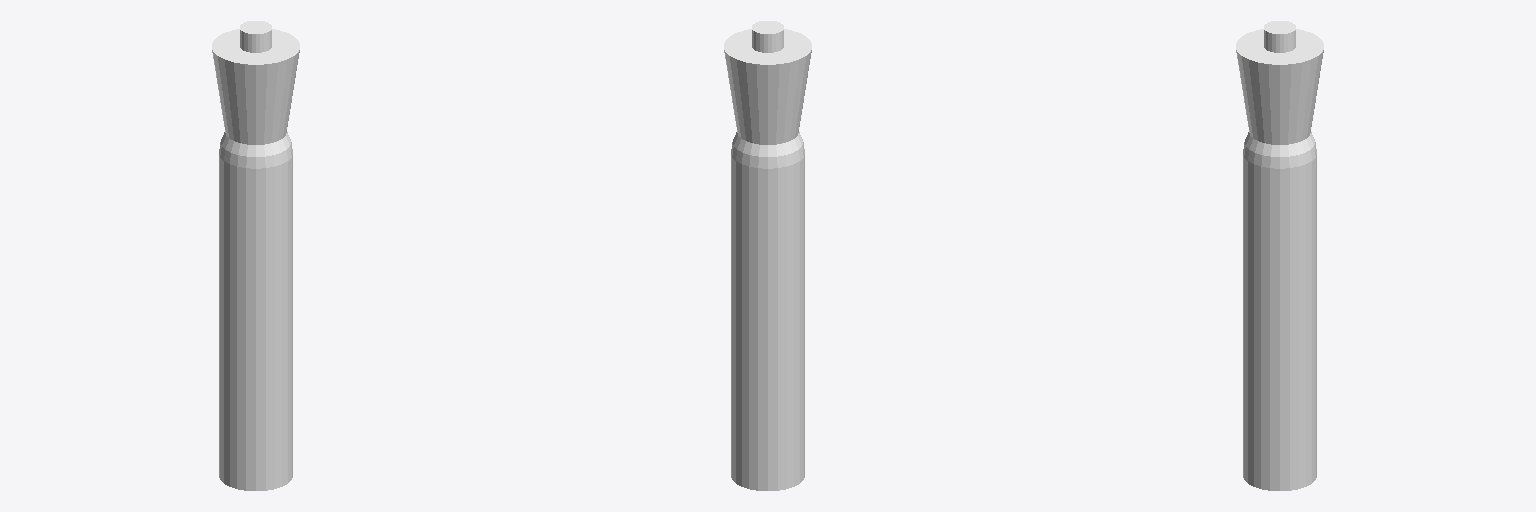
The robot description file, URDF, robot "lab_marker.obj":
<robot name="lab_marker.obj">
	<link name="_name">
		<visual>
			<origin xyz="0.0 0.0 -584.8149569506586" rpy="0 0 0" />
			<geometry>
				<mesh filename="lab_marker.obj" scale="10 10 10" />
			</geometry>
			<material name="texture">
				<color rgba="1.0 1.0 1.0 1.0" />
			</material>
		</visual>
		<collision>
			<geometry>
				<mesh filename="lab_marker_vhacd.obj" scale="10 10 10" />
			</geometry>
		<origin xyz="0.0 0.0 -584.8149569506586" rpy="0 0 0" /></collision>
		<inertial>
			<mass value="1.0" />
			<inertia ixx="1.0" ixy="0.0" ixz="0.0" iyy="1.0" iyz="0.0" izz="1.0" />
		</inertial>
	</link>
</robot>

--- Facts derived from the render (not from the file) ---
3 views of the same robot in one strip: view 1: azimuth 30°, elevation 25°; view 2: azimuth 150°, elevation 25°; view 3: azimuth 270°, elevation 25° (orthographic).
Model lab_marker.obj with 1 links and 0 joints (none), rooted at _name, posed all joints at 0.
Links seen in each view (by area): view 1: _name; view 2: _name; view 3: _name.
Link boxes in pixels (x1,y1,x2,y2): _name: (212, 21, 299, 490); _name: (724, 21, 811, 490); _name: (1236, 21, 1323, 490).
Bounding box of the posed robot: 216 × 216 × 1200 m (x, y, z).
Meshes: 1 distinct files referenced, 1 mesh visuals loaded (1 OBJ).